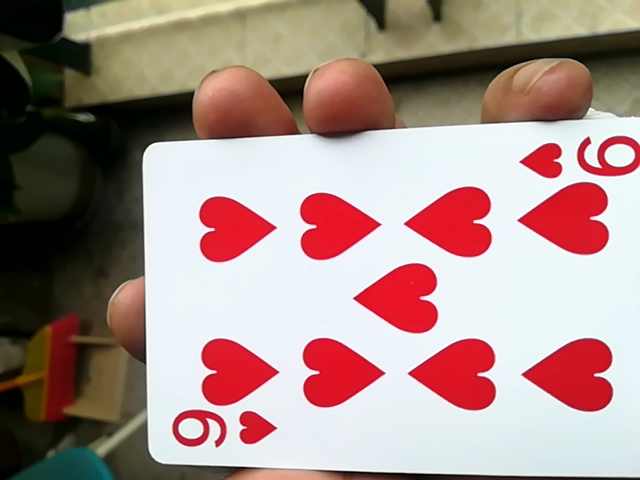hx 9: (136, 118, 633, 480)
